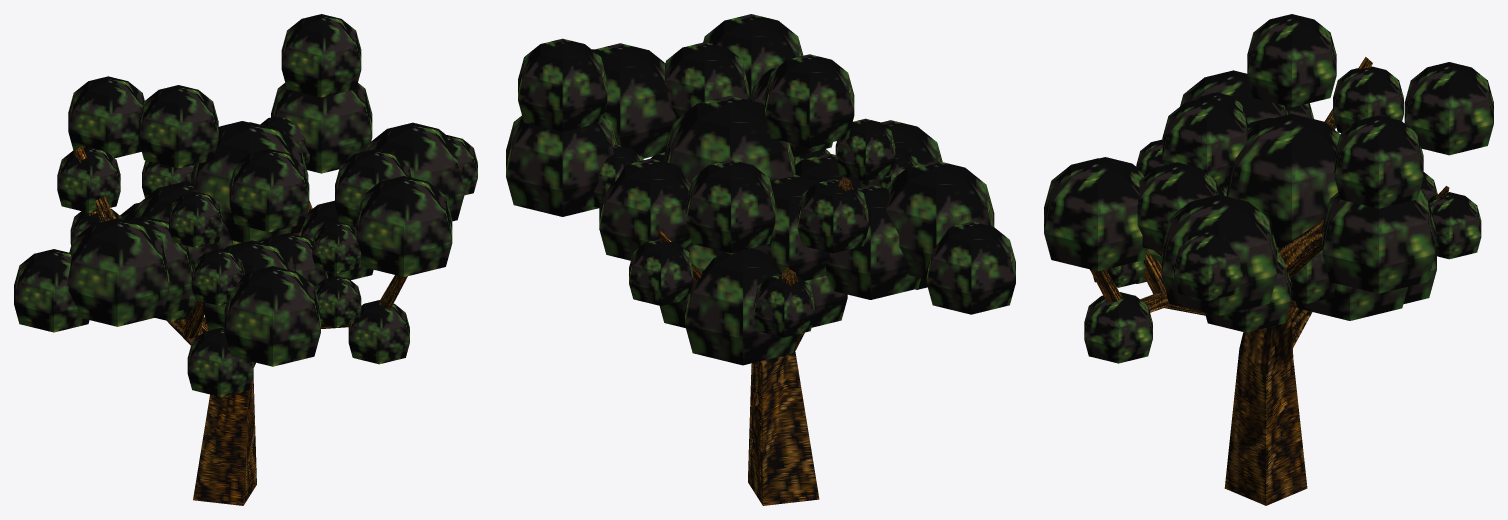
The model's file is Baum_Pinie_305.glb.
The picture shows the model from 3 angles, left to right: view 1: azimuth 30°, elevation 25°; view 2: azimuth 150°, elevation 25°; view 3: azimuth 270°, elevation 25°; orthographic projection. The views are drawn at different scales.
Parts seen in each view (by area): view 1: pSphereShape33, pSphereShape10, pSphereShape13, pCylinderShape1, pSphereShape19, pSphereShape25, pSphereShape8, pSphereShape23, pSphereShape22, pSphereShape24, pSphereShape5, pSphereShape34 (+19 smaller); view 2: pCylinderShape1, pSphereShape19, pSphereShape20, pSphereShape33, pSphereShape24, pSphereShape8, pSphereShape23, pSphereShape22, pSphereShape9, pSphereShape5, pSphereShape34, pSphereShape6 (+14 smaller); view 3: pCylinderShape1, pSphereShape24, pSphereShape10, pSphereShape19, pSphereShape34, pSphereShape8, pSphereShape23, pSphereShape22, pSphereShape25, pSphereShape14, pSphereShape15, pSphereShape7 (+13 smaller).
Part boxes in pixels (x1,y1,x2,y2): pSphereShape33: [67, 218, 169, 326]; pSphereShape10: [355, 176, 452, 276]; pSphereShape13: [224, 266, 320, 366]; pCylinderShape1: [193, 227, 301, 505]; pSphereShape19: [271, 83, 372, 173]; pSphereShape25: [229, 149, 309, 232]; pSphereShape8: [281, 14, 361, 97]; pSphereShape23: [138, 85, 218, 168]; pSphereShape22: [68, 76, 144, 157]; pSphereShape24: [191, 122, 308, 242]; pSphereShape5: [14, 249, 89, 332]; pSphereShape34: [366, 122, 464, 221]; pCylinderShape1: [748, 352, 819, 505]; pSphereShape19: [506, 115, 617, 216]; pSphereShape20: [685, 248, 798, 365]; pSphereShape33: [885, 160, 994, 279]; pSphereShape24: [664, 96, 795, 183]; pSphereShape8: [518, 38, 607, 131]; pSphereShape23: [765, 54, 854, 147]; pSphereShape22: [686, 160, 775, 252]; pSphereShape9: [599, 158, 691, 260]; pSphereShape5: [926, 222, 1015, 314]; pSphereShape34: [593, 43, 677, 158]; pSphereShape6: [826, 184, 920, 299]; pCylinderShape1: [1153, 250, 1307, 505]; pSphereShape24: [1226, 114, 1340, 247]; pSphereShape10: [1044, 158, 1147, 271]; pSphereShape19: [1322, 192, 1435, 293]; pSphereShape34: [1161, 194, 1277, 315]; pSphereShape8: [1334, 115, 1423, 208]; pSphereShape23: [1247, 14, 1336, 107]; pSphereShape22: [1404, 62, 1493, 155]; pSphereShape25: [1162, 97, 1249, 188]; pSphereShape14: [1137, 162, 1219, 251]; pSphereShape15: [1084, 292, 1152, 363]; pSphereShape7: [1174, 231, 1243, 300].
Bounding box in the file's own units: 1.11 × 0.9801 × 0.8861.
44 materials, 44 textured.
